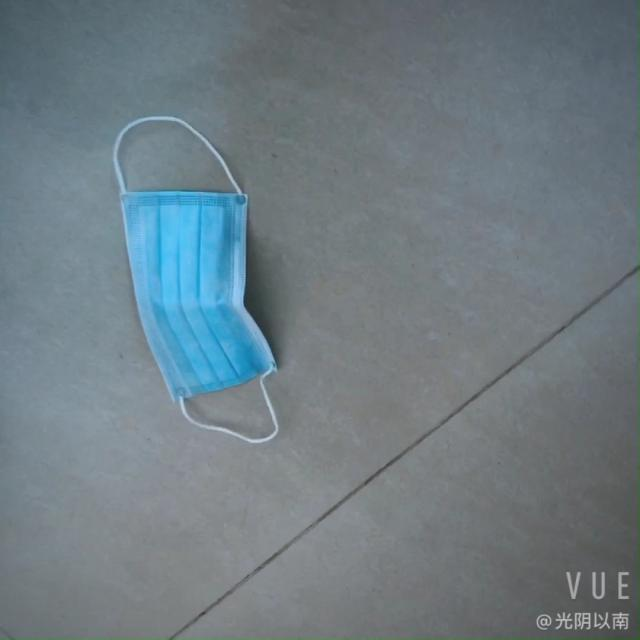non-organic waste: (109, 106, 275, 459)
